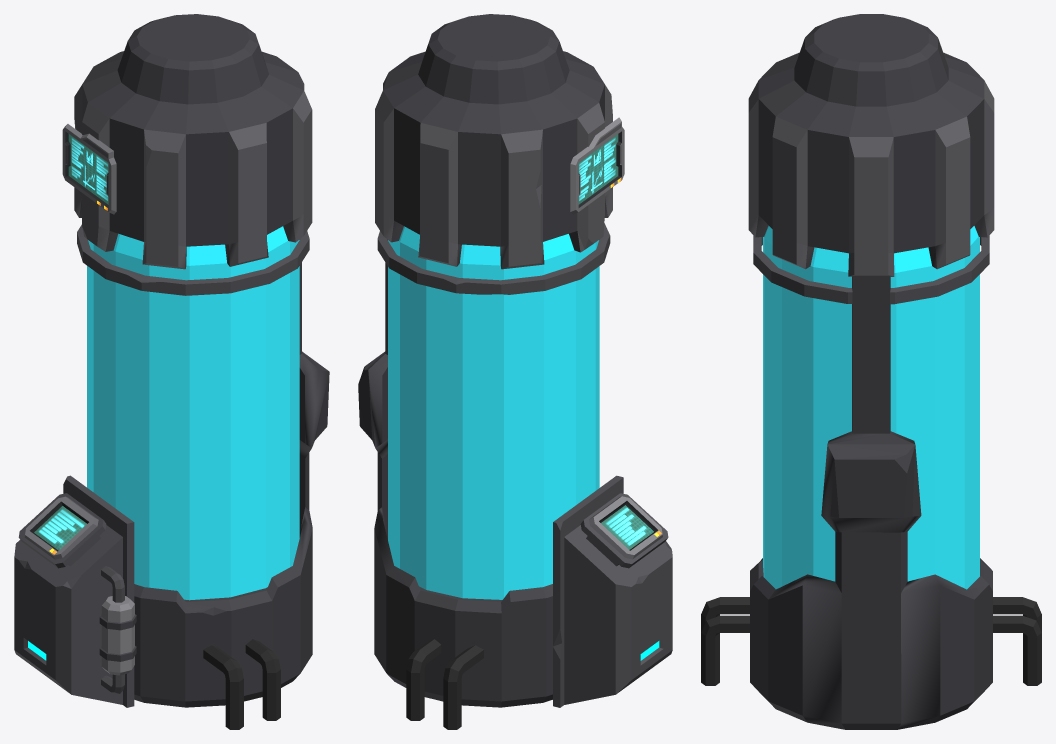
The model's file is medical_tube.glb.
3 renders of one model, left to right at view 1: azimuth 30°, elevation 25°; view 2: azimuth 150°, elevation 25°; view 3: azimuth 270°, elevation 25°, orthographic. The views are drawn at different scales.
Visible parts, largest first — view 1: SM_Prop_Medical_Tube_01__1_, SM_Prop_Medical_Tube_Glass_01, SM_Prop_Screen_08, SM_Prop_Screen_07__1_; view 2: SM_Prop_Medical_Tube_01__1_, SM_Prop_Medical_Tube_Glass_01, SM_Prop_Screen_08, SM_Prop_Screen_07__1_; view 3: SM_Prop_Medical_Tube_01__1_, SM_Prop_Medical_Tube_Glass_01.
Boxes of the visible parts, box(x1,y1,x2,y2) form: SM_Prop_Medical_Tube_01__1_: box(14, 14, 329, 729); SM_Prop_Medical_Tube_Glass_01: box(87, 226, 299, 600); SM_Prop_Screen_08: box(62, 124, 116, 214); SM_Prop_Screen_07__1_: box(24, 496, 98, 559); SM_Prop_Medical_Tube_01__1_: box(358, 14, 672, 729); SM_Prop_Medical_Tube_Glass_01: box(388, 226, 599, 599); SM_Prop_Screen_08: box(570, 117, 624, 214); SM_Prop_Screen_07__1_: box(589, 496, 662, 559); SM_Prop_Medical_Tube_01__1_: box(701, 14, 1041, 729); SM_Prop_Medical_Tube_Glass_01: box(763, 225, 979, 589).
Size of the model in its own units: 1.82 by 3.91 by 1.88.
3 materials, 2 textured.
